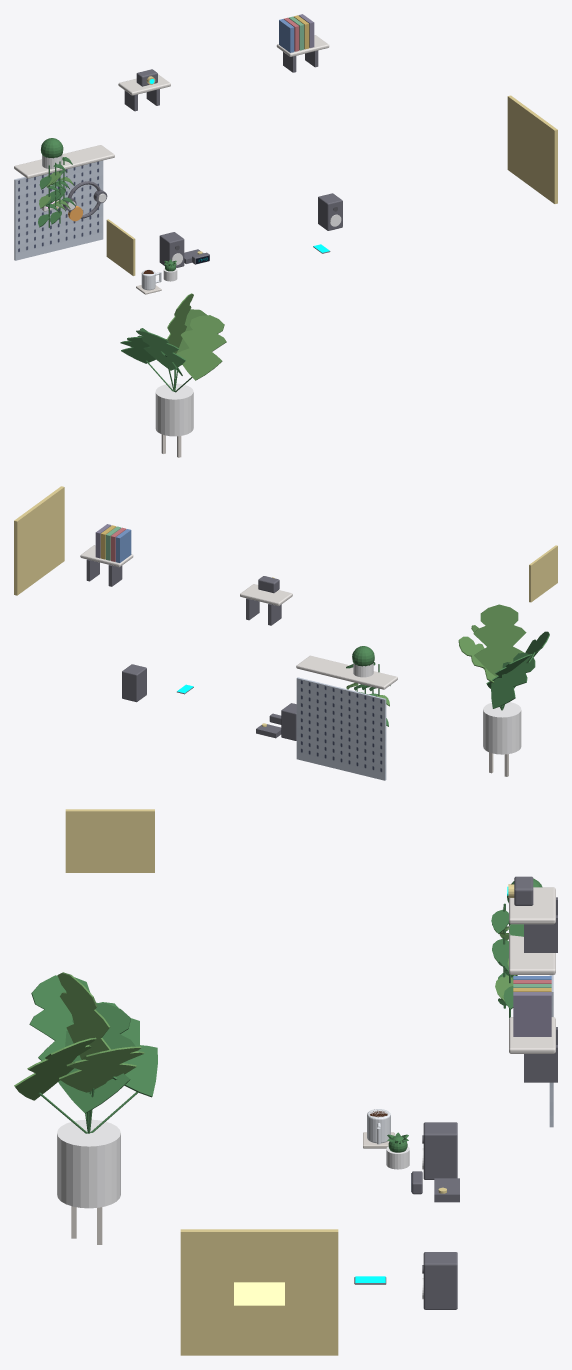
The picture shows the model from 3 angles, top to bottom: view 1: azimuth 30°, elevation 25°; view 2: azimuth 150°, elevation 25°; view 3: azimuth 270°, elevation 25°; orthographic projection. The views are drawn at different scales.
Parts seen in each view (by area): view 1: pegboard_panel, painting_frame, monstera_leaf_6, pot_monstera, shelf_rear_lower, certificate_frame, monstera_leaf_3, speaker_right_cabinet, monstera_leaf_4, speaker_left_cabinet, monstera_leaf_5; view 2: pegboard_panel, painting_frame, monstera_leaf_4, pot_monstera, shelf_rear_lower, monstera_leaf_5, certificate_frame, speaker_right_cabinet, shelf_rear_upper, speaker_left_cabinet, monstera_leaf_2, book_vol_1 (+1 smaller); view 3: painting_frame, certificate_frame, pot_monstera, monstera_leaf_1, monstera_leaf_4, monstera_leaf_3, monstera_leaf_2, speaker_right_cabinet, speaker_left_cabinet, monstera_leaf_6, book_vol_5, monstera_leaf_5 (+6 smaller).
Boxes of the visible parts, x1=… form: pegboard_panel: x1=14, y1=160, x2=103, y2=260; painting_frame: x1=507, y1=95, x2=557, y2=203; monstera_leaf_6: x1=176, y1=315, x2=226, y2=380; pot_monstera: x1=155, y1=383, x2=193, y2=436; shelf_rear_lower: x1=14, y1=145, x2=114, y2=178; certificate_frame: x1=106, y1=219, x2=135, y2=275; monstera_leaf_3: x1=136, y1=330, x2=185, y2=370; speaker_right_cabinet: x1=318, y1=193, x2=342, y2=230; monstera_leaf_4: x1=166, y1=293, x2=193, y2=353; speaker_left_cabinet: x1=159, y1=232, x2=184, y2=267; monstera_leaf_5: x1=120, y1=337, x2=155, y2=363; pegboard_panel: x1=296, y1=677, x2=386, y2=780; painting_frame: x1=14, y1=486, x2=64, y2=595; monstera_leaf_4: x1=473, y1=604, x2=526, y2=676; pot_monstera: x1=483, y1=702, x2=521, y2=754; shelf_rear_lower: x1=296, y1=655, x2=397, y2=689; monstera_leaf_5: x1=491, y1=653, x2=535, y2=708; certificate_frame: x1=529, y1=545, x2=557, y2=602; speaker_right_cabinet: x1=122, y1=664, x2=146, y2=702; shelf_rear_upper: x1=240, y1=584, x2=292, y2=605; speaker_left_cabinet: x1=281, y1=703, x2=296, y2=740; monstera_leaf_2: x1=458, y1=636, x2=495, y2=683; book_vol_1: x1=115, y1=529, x2=131, y2=562; painting_frame: x1=180, y1=1229, x2=338, y2=1355; certificate_frame: x1=65, y1=809, x2=154, y2=872; pot_monstera: x1=57, y1=1119, x2=120, y2=1208; monstera_leaf_1: x1=58, y1=1003, x2=135, y2=1113; monstera_leaf_4: x1=57, y1=972, x2=110, y2=1059; monstera_leaf_3: x1=29, y1=975, x2=98, y2=1074; monstera_leaf_2: x1=59, y1=1046, x2=144, y2=1092; speaker_right_cabinet: x1=423, y1=1252, x2=457, y2=1309; speaker_left_cabinet: x1=423, y1=1122, x2=457, y2=1179; monstera_leaf_6: x1=14, y1=1037, x2=96, y2=1100; book_vol_5: x1=513, y1=992, x2=551, y2=1036; monstera_leaf_5: x1=99, y1=1002, x2=157, y2=1097.
Size of the model in its own units: 4.18 by 2.38 by 2.55.
24 materials, 3 textured.
